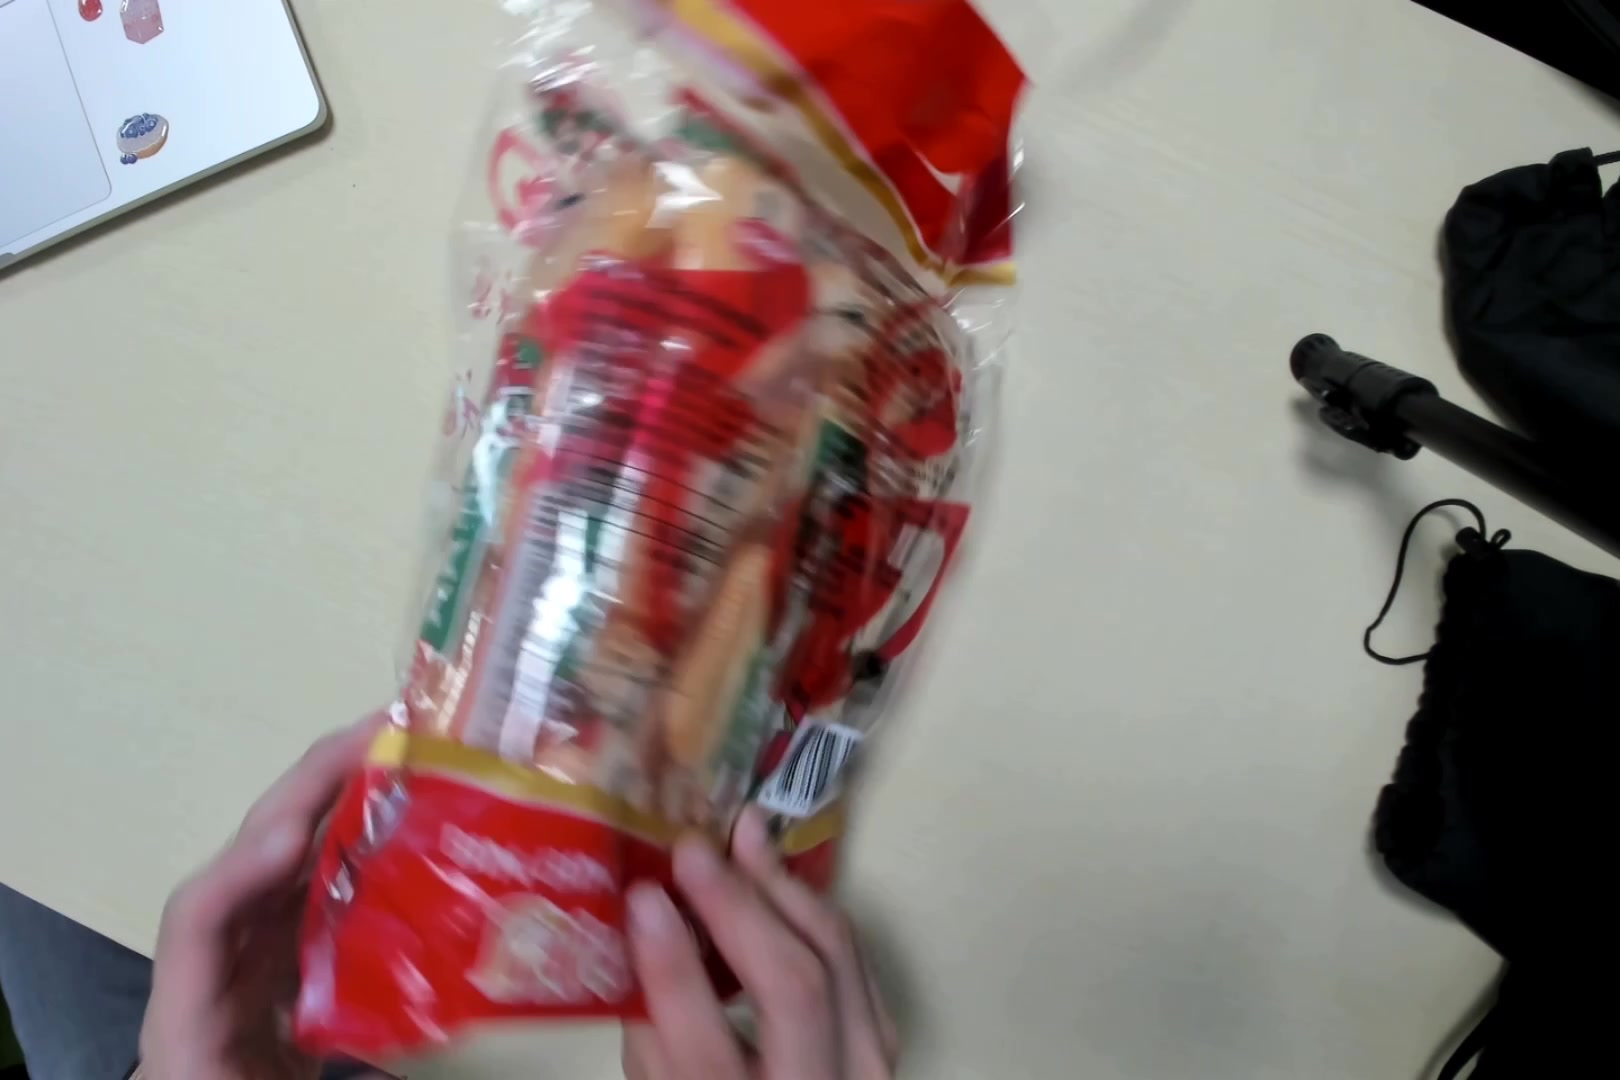PotatoChipsKeropok_300-399g_NonHalal_NonHealthy: (287, 1, 1023, 1040)
